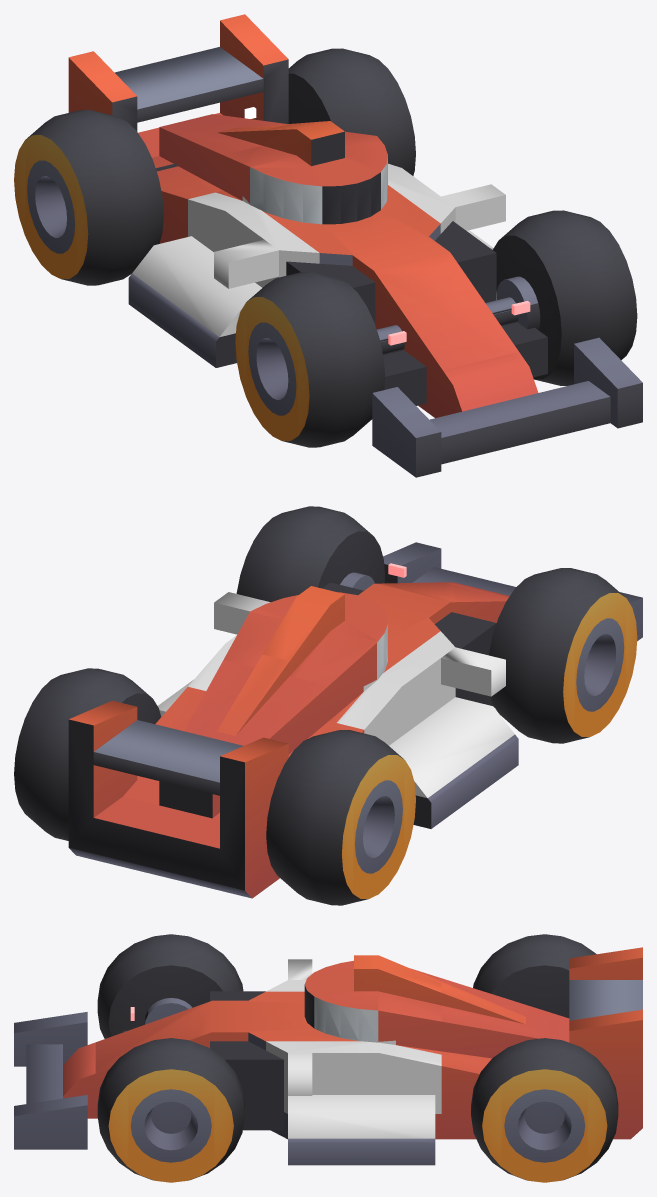
Rendered from racecar.glb.
The picture shows the model from 3 angles, top to bottom: view 1: azimuth 30°, elevation 25°; view 2: azimuth 150°, elevation 25°; view 3: azimuth 270°, elevation 25°; orthographic projection. The views are drawn at different scales.
Visible parts, largest first — view 1: body, hood, wheel_rr, wheel_fr, trunk, wheel_fl, door_l, wheel_rl, cabin_core, door_r, trunk_floor; view 2: hood, body, wheel_rr, wheel_fr, door_l, wheel_rl, wheel_fl, trunk, door_r, cabin_core; view 3: body, hood, wheel_rl, wheel_fl, door_r, trunk, wheel_fr, wheel_rr, cabin_core, door_l.
Boxes of the visible parts, left/top/right/bottom form: body: left=128, top=121, right=540, bottom=418; hood: left=68, top=14, right=288, bottom=243; wheel_rr: left=14, top=110, right=163, bottom=285; wheel_fr: left=235, top=272, right=385, bottom=447; trunk: left=372, top=337, right=642, bottom=477; wheel_fl: left=493, top=210, right=637, bottom=385; door_l: left=132, top=192, right=319, bottom=337; wheel_rl: left=288, top=48, right=415, bottom=175; cabin_core: left=286, top=221, right=496, bottom=324; door_r: left=388, top=163, right=505, bottom=300; trunk_floor: left=383, top=322, right=547, bottom=405; hood: left=68, top=654, right=364, bottom=898; body: left=223, top=572, right=518, bottom=828; wheel_rr: left=266, top=730, right=415, bottom=905; wheel_fr: left=489, top=568, right=637, bottom=743; door_l: left=337, top=631, right=514, bottom=798; wheel_rl: left=14, top=668, right=161, bottom=840; wheel_fl: left=236, top=506, right=385, bottom=602; trunk: left=383, top=542, right=642, bottom=641; door_r: left=158, top=592, right=270, bottom=716; cabin_core: left=322, top=582, right=496, bottom=707; body: left=95, top=955, right=441, bottom=1165; hood: left=441, top=947, right=642, bottom=1139; wheel_rl: left=471, top=1038, right=618, bottom=1182; wheel_fl: left=97, top=1038, right=244, bottom=1182; door_r: left=266, top=1040, right=441, bottom=1138; trunk: left=14, top=1012, right=95, bottom=1149; wheel_fr: left=97, top=934, right=243, bottom=1038; wheel_rr: left=473, top=934, right=596, bottom=1018; cabin_core: left=210, top=991, right=283, bottom=1130; door_l: left=266, top=959, right=312, bottom=991.
Bounding box in the file's own units: 4.55 × 2.56 × 8.96.
Materials: 5 (1 with a texture image).
